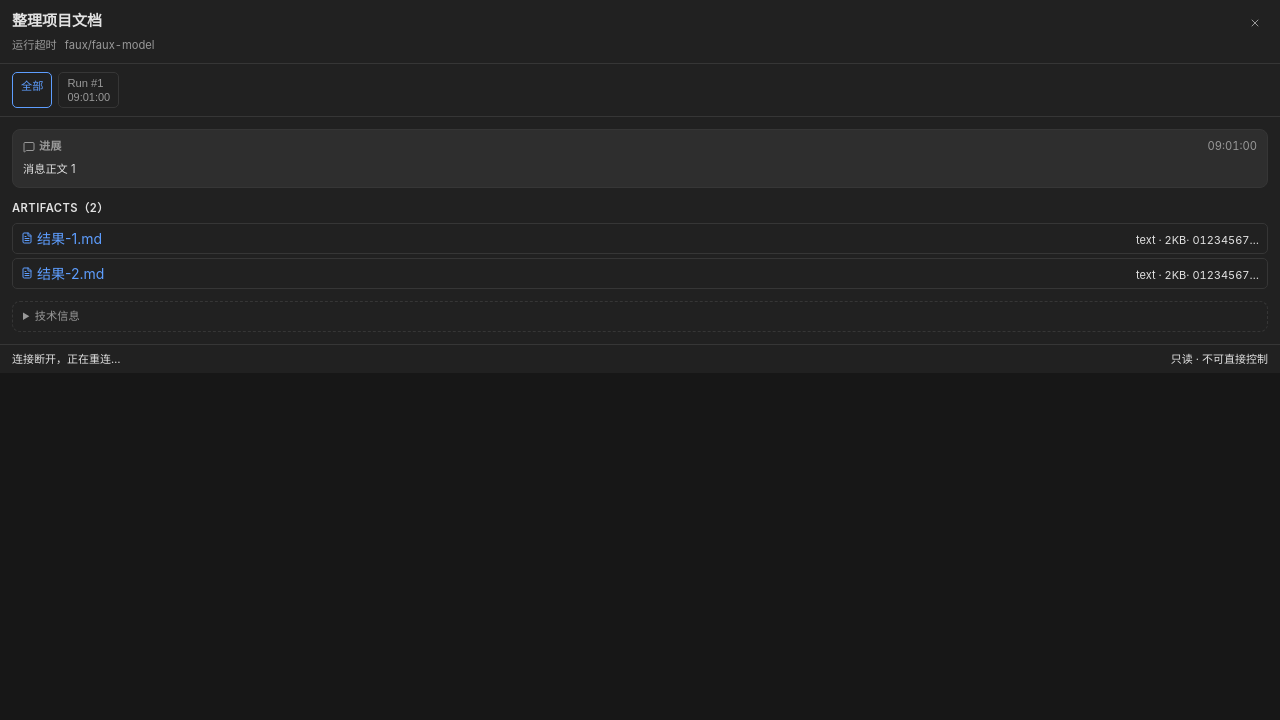
Scenario: SubagentPanel › Technical summary 展示 snapshot/工作区/预算/原因 与日志链接
Click the heading "技术信息" at (57,316), box [35, 309, 80, 323]
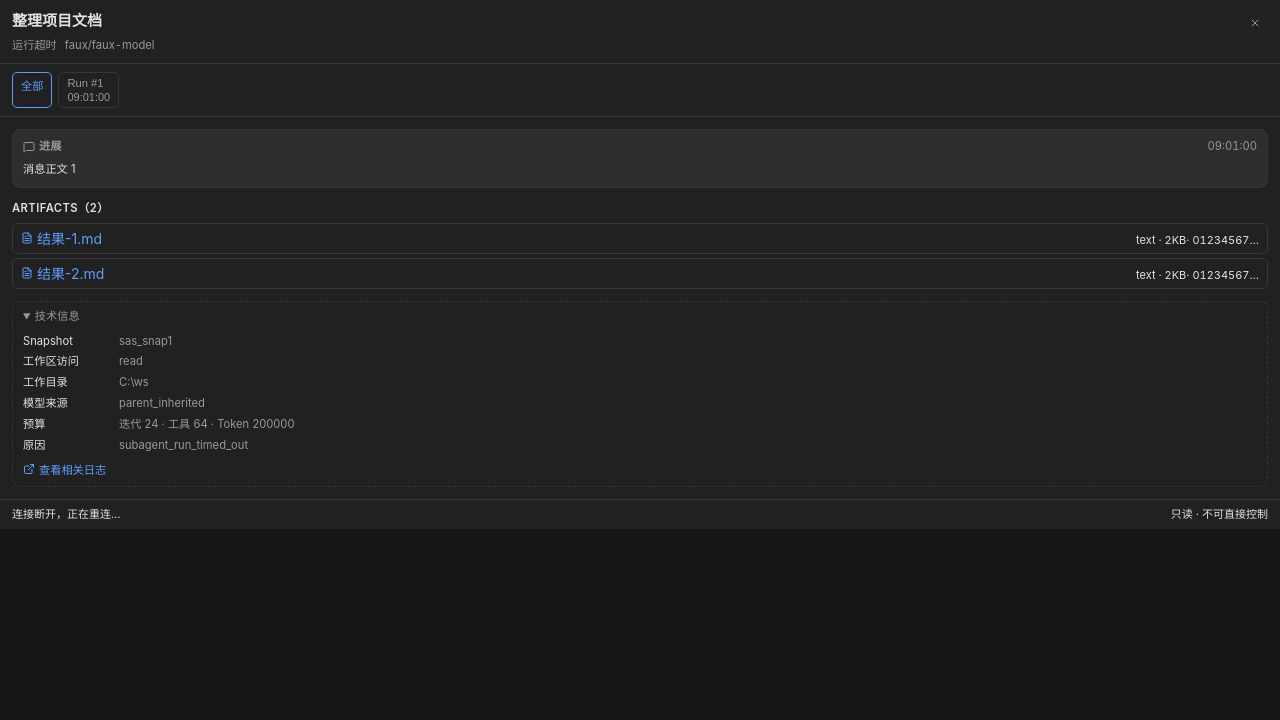
expect the text "sas_snap1" is shown: met, box [119, 333, 172, 349]
expect the text "read" is shown: met, box [119, 353, 143, 370]
expect the text "迭代 24 · 工具 64 · Token 200000" is shown: met, box [119, 416, 294, 433]
